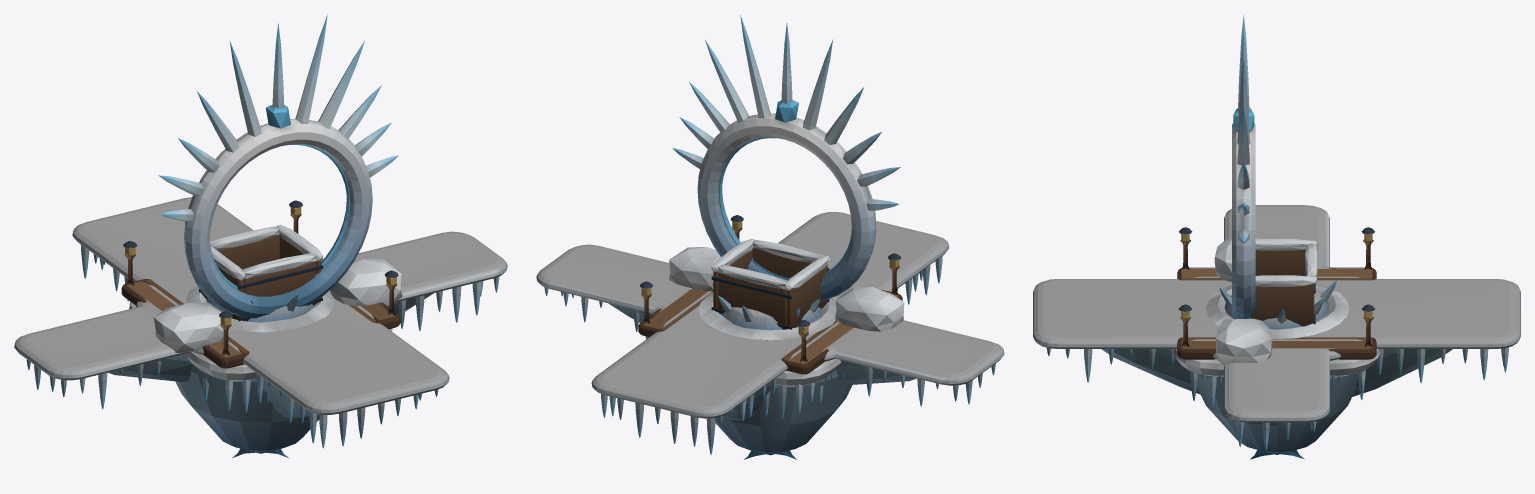
Rendered from glacier-4-B1MnrRon.glb.
The picture shows the model from 3 angles, left to right: view 1: azimuth 30°, elevation 25°; view 2: azimuth 150°, elevation 25°; view 3: azimuth 270°, elevation 25°; orthographic projection. The views are drawn at different scales.
Parts seen in each view (by area): view 1: portal_#0, block_9x2x29#1, block_30x2x6_grate#0, disc_14x1.5#0, hopper_4x3#0, pad_12x2x12#1, geyserVent_3.9#0; view 2: block_9x2x29#1, portal_#0, block_30x2x6_grate#0, hopper_4x3#0, disc_14x1.5#0, pad_12x2x12#1, geyserVent_3.9#0; view 3: block_9x2x29#1, block_30x2x6_grate#0, portal_#0, pad_12x2x12#1, hopper_4x3#0, disc_14x1.5#0, geyserVent_3.9#0.
Part boxes in pixels (x1,y1,x2,y2): portal_#0: [153, 15, 402, 353]; block_9x2x29#1: [72, 197, 449, 448]; block_30x2x6_grate#0: [14, 231, 507, 409]; disc_14x1.5#0: [136, 258, 385, 453]; hopper_4x3#0: [199, 224, 323, 321]; pad_12x2x12#1: [121, 200, 400, 412]; geyserVent_3.9#0: [186, 284, 334, 332]; block_9x2x29#1: [591, 212, 949, 454]; portal_#0: [669, 15, 904, 331]; block_30x2x6_grate#0: [536, 244, 1004, 406]; hopper_4x3#0: [711, 238, 829, 329]; disc_14x1.5#0: [652, 285, 866, 455]; pad_12x2x12#1: [638, 215, 902, 419]; geyserVent_3.9#0: [698, 292, 836, 340]; block_9x2x29#1: [1033, 279, 1520, 396]; block_30x2x6_grate#0: [1224, 205, 1329, 450]; portal_#0: [1214, 15, 1272, 365]; pad_12x2x12#1: [1173, 227, 1380, 408]; hopper_4x3#0: [1250, 239, 1317, 326]; disc_14x1.5#0: [1188, 266, 1363, 454]; geyserVent_3.9#0: [1205, 280, 1349, 338].
Size of the model in its own units: 30.36 by 29.01 by 29.36.
